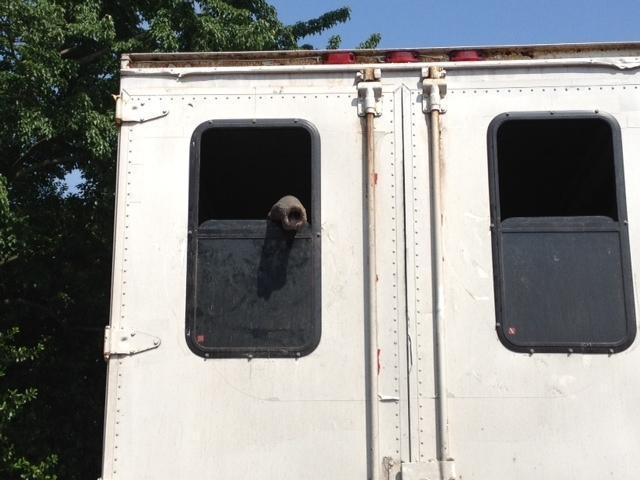truck: (103, 42, 640, 480)
